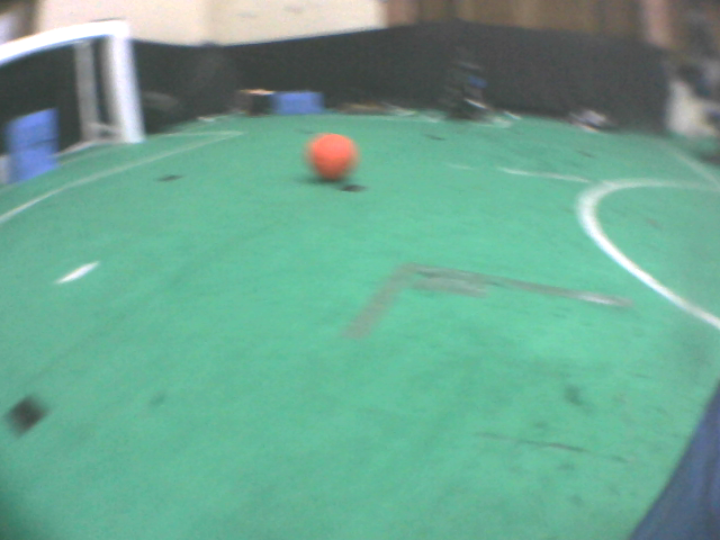bola: (301, 132, 364, 191)
